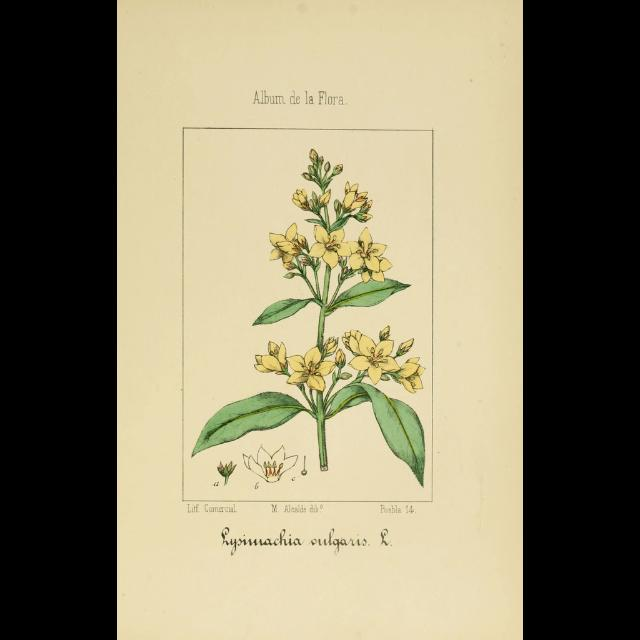Flower: (310, 226, 392, 280), (353, 328, 407, 382), (286, 345, 336, 389), (241, 446, 297, 482), (271, 219, 309, 271), (336, 179, 374, 219), (252, 339, 284, 377), (302, 148, 322, 180), (320, 332, 340, 356), (294, 185, 308, 211), (315, 187, 331, 207), (216, 461, 234, 477), (337, 348, 345, 372), (333, 164, 343, 174), (326, 160, 332, 170)
